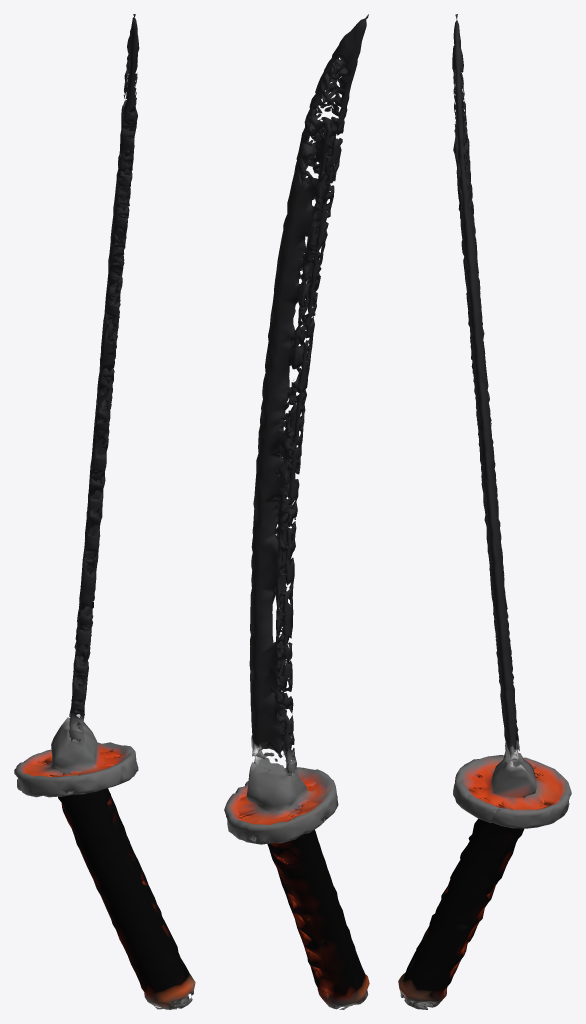
The model's file is katana.glb.
3 renders of one model, left to right at view 1: azimuth 90°, elevation 25°; view 2: azimuth 150°, elevation 25°; view 3: azimuth 270°, elevation 25°, orthographic. The views are drawn at different scales.
Visible parts, largest first — view 1: Djabo_Katana; view 2: Djabo_Katana; view 3: Djabo_Katana.
Boxes of the visible parts, x1,y1,x2,y2 form: Djabo_Katana: (14,14,195,1009); Djabo_Katana: (224,14,369,1009); Djabo_Katana: (398,14,571,1009).
Bounding box in the file's own units: 0.1102 × 0.9977 × 0.1616.
